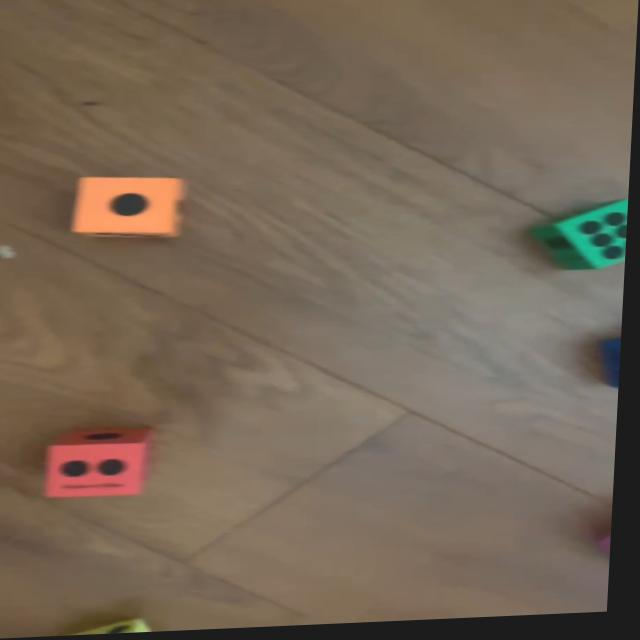red_block: (49, 429, 158, 501)
